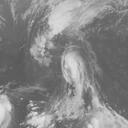cyclone: (60, 44, 90, 87)
